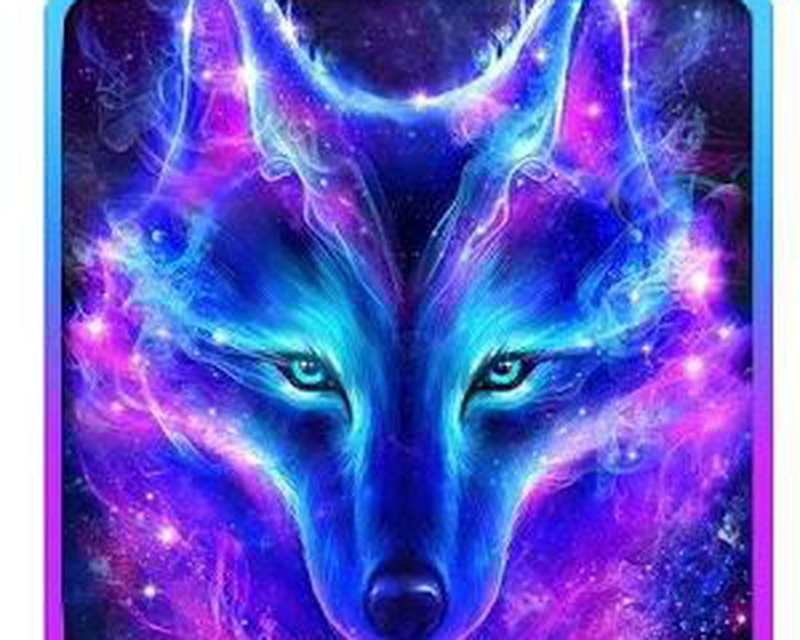Lobo: (133, 9, 595, 636)
